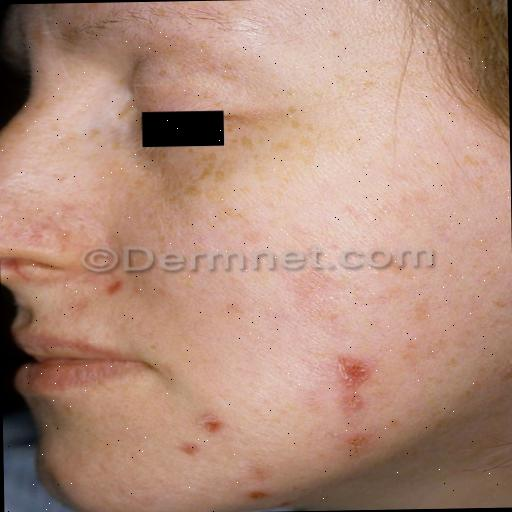Skin_Lesion: (155, 400, 239, 466), (318, 349, 396, 410), (335, 424, 381, 462), (237, 474, 287, 506), (103, 274, 148, 304)
